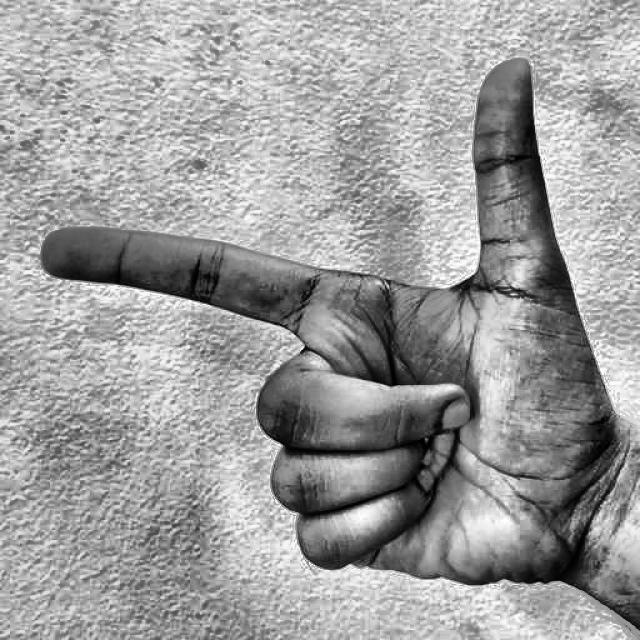Tha: (30, 45, 618, 608)
